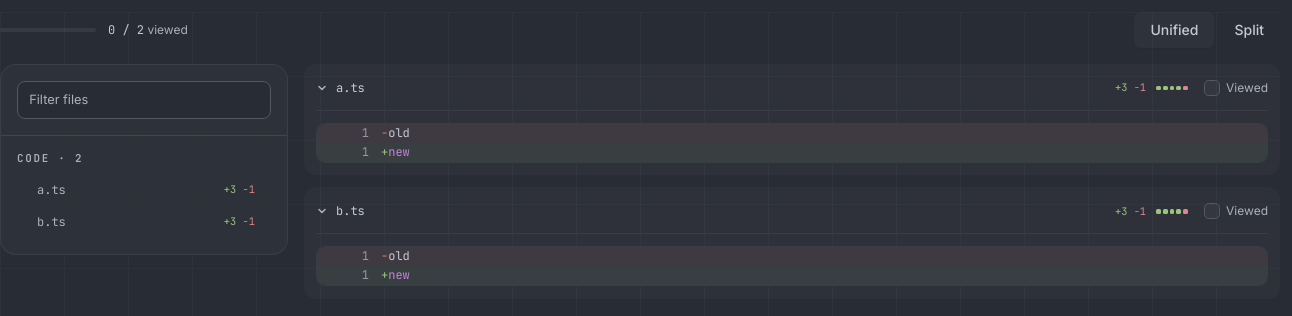
Scenario: FilesChangedScreen (REQ-916) › advances the pass when a file is marked viewed — AC-999
Click the 1st checkbox named "Viewed": (1212, 88) [1204, 80, 1220, 96]
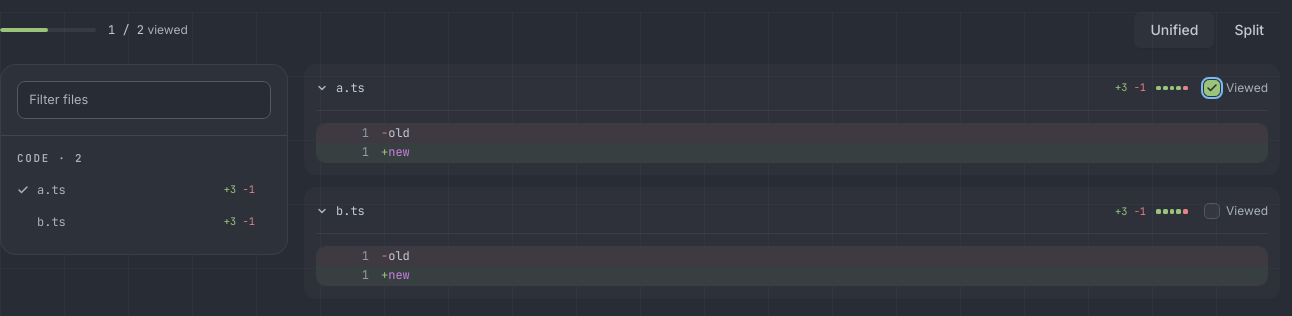
Now the text "1 / 2" is shown, box [108, 22, 144, 38]
